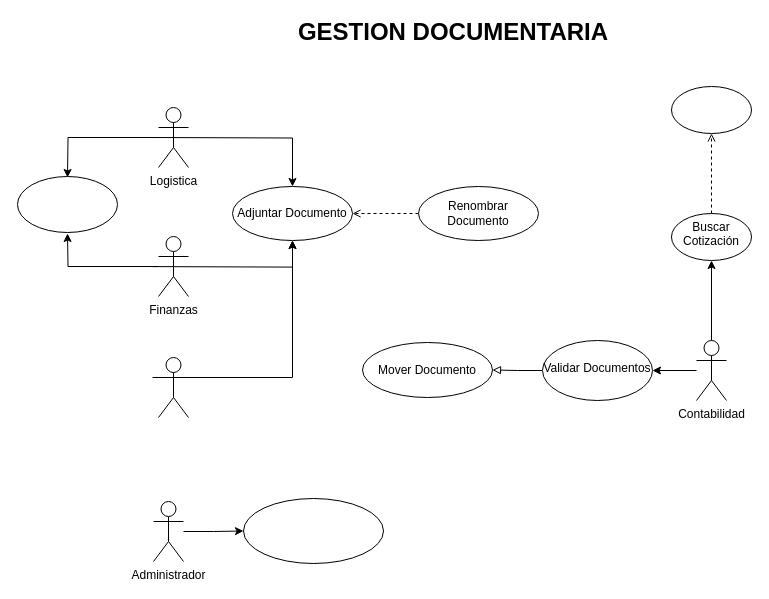
This 769x599 diagram has some shape labels left out. Each missing label, with the centre of its shape:
"Almacenero" belongs at point (173, 387).
"Crear Cotización" belongs at point (67, 204).
"Mantenimiento de OBRAS" belongs at point (313, 531).
"Mostrar Documentos" belongs at point (711, 110).
